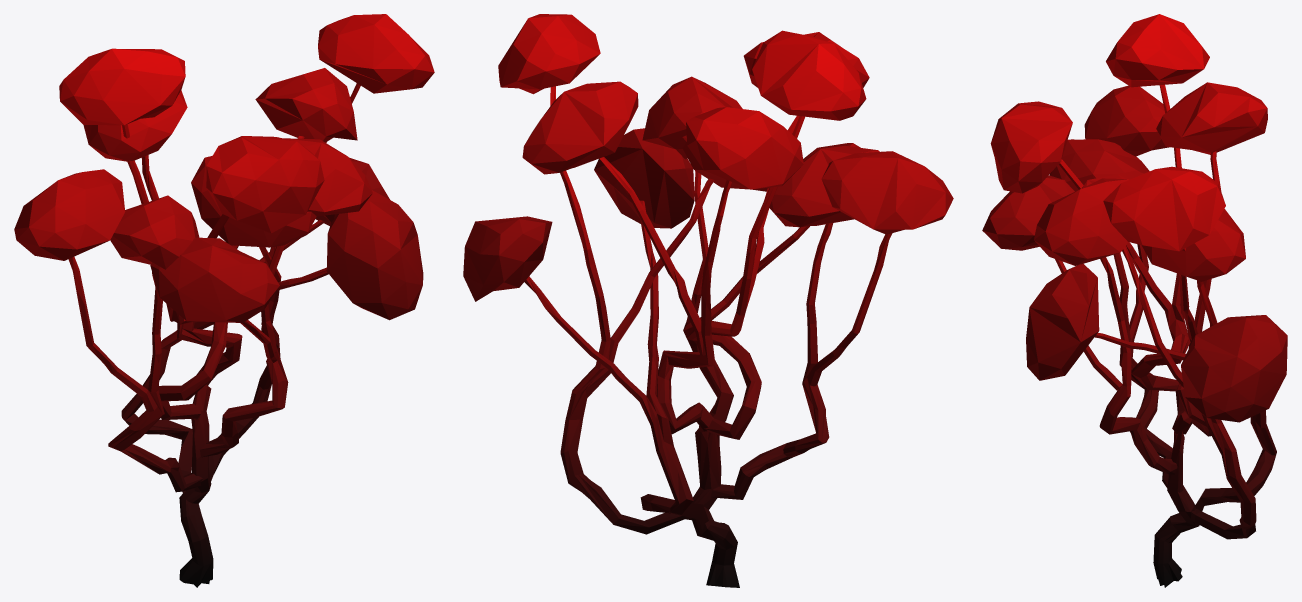
File: TreeHiatus06.fbx
3 renders of one model, left to right at view 1: azimuth 30°, elevation 25°; view 2: azimuth 150°, elevation 25°; view 3: azimuth 270°, elevation 25°, orthographic. The views are drawn at different scales.
Visible parts, largest first — view 1: TreeHiatus06_LOD0; view 2: TreeHiatus06_LOD0; view 3: TreeHiatus06_LOD0.
Boxes of the visible parts, bbox=[...] form: TreeHiatus06_LOD0: bbox=[14, 14, 434, 587]; TreeHiatus06_LOD0: bbox=[463, 14, 953, 587]; TreeHiatus06_LOD0: bbox=[982, 14, 1287, 587].
Size of what is drawn, in the model's own units: 1697 by 2148 by 1129.
